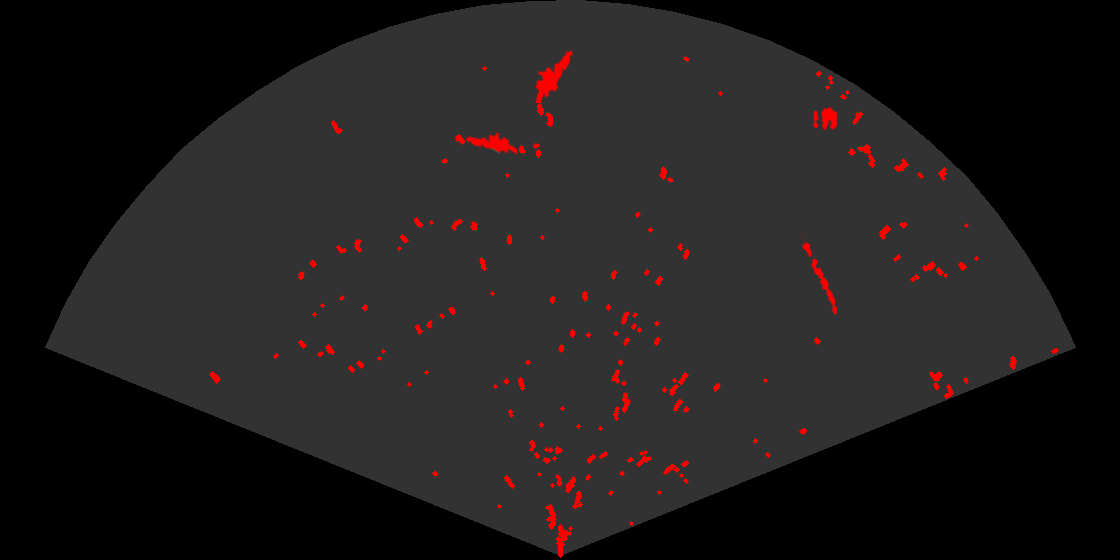ball: (812, 106, 839, 132)
chain: (798, 233, 839, 317)
frogman: (534, 48, 574, 103), (463, 131, 517, 156)
